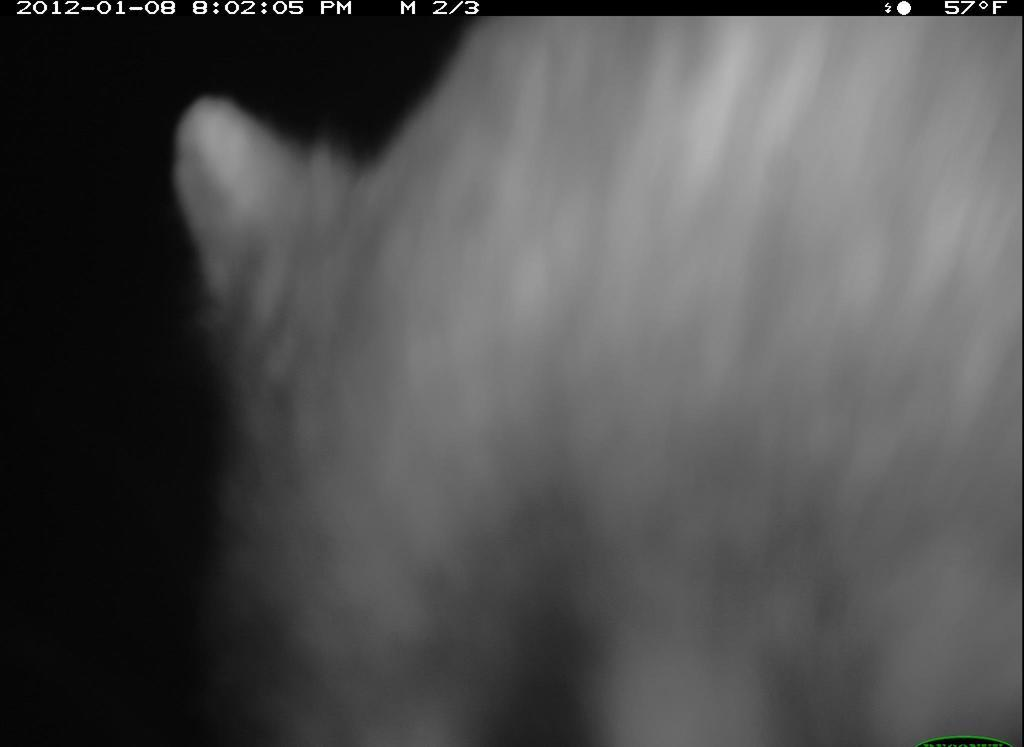raccoon: (153, 11, 1023, 747)
